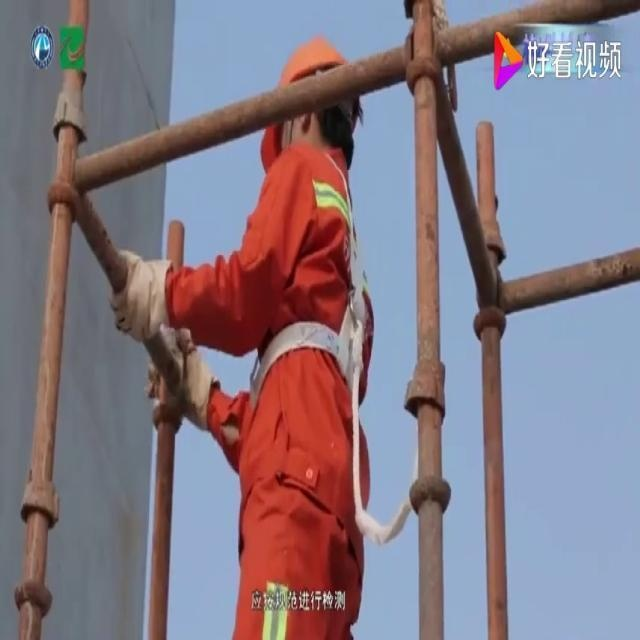Arnes_seguridad: (236, 141, 378, 433)
